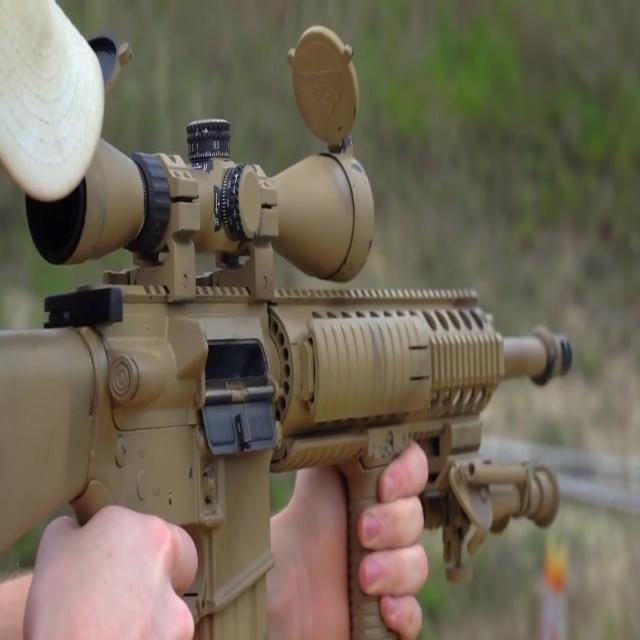Weapon: (0, 11, 596, 640)
